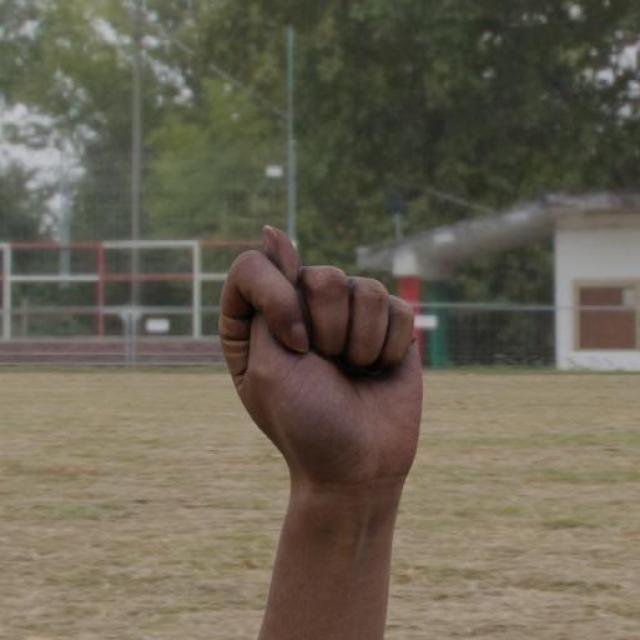T: (211, 220, 431, 506)
